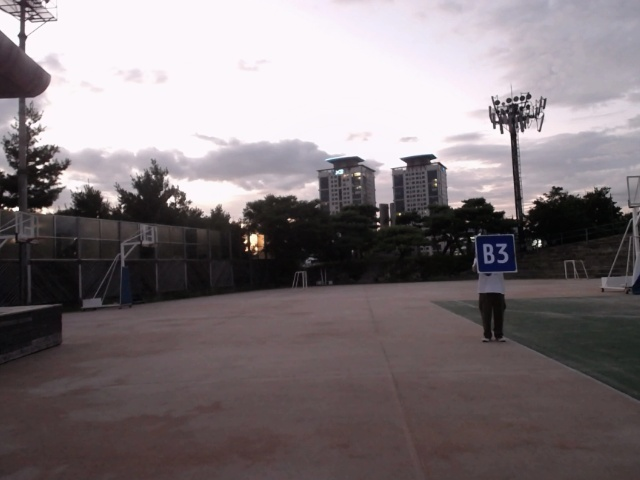delivery_b3: (475, 234, 517, 274)
